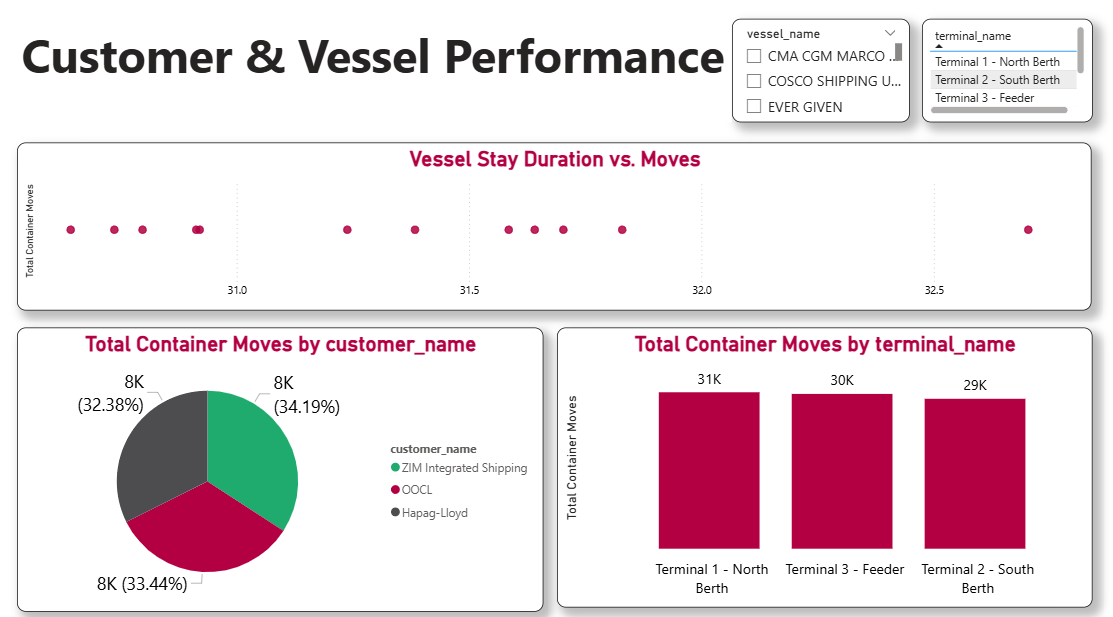

This screenshot's page, from the dashboard's own definition file:
{"tool":"powerbi","page":{"name":"Customer & Vessel Performance","canvas":[1280,720],"ordinal":2},"visuals":[{"type":"scatterChart","title":"Vessel Stay Duration vs. Moves","fields":{"X":["MY Measures.Stay Duration Hours"],"Y":["MY Measures.Total Container Moves"],"Category":["mart Dim_Vessel.vessel_name"]},"box":[23.3,168.3,1228.3,191.7],"z":1000},{"type":"pieChart","fields":{"Category":["mart Dim_Customer.customer_name"],"Y":["MY Measures.Total Container Moves"]},"box":[23.3,380,601.7,325],"z":2000},{"type":"columnChart","fields":{"Category":["mart Dim_Terminal.terminal_name"],"Y":["MY Measures.Total Container Moves"]},"box":[640,380,611.7,320],"z":3000},{"type":"slicer","fields":{"Values":["mart Dim_Vessel.vessel_name"]},"box":[840,26.7,203.3,118.3],"z":4000},{"type":"tableEx","fields":{"Values":["mart Dim_Terminal.terminal_name"]},"box":[1056.7,26.7,195,118.3],"z":5000},{"type":"textbox","title":"Customer & Vessel Performance","box":[23.3,26.7,816.7,118.3],"z":5001}]}

Visuals, with their boxes in screenshot pixels (x1, y1, x2, y2), scaled from the page's 1280x720 canvas onto the 1113x617 screenshot:
"Vessel Stay Duration vs. Moves" scatterChart: (left=20, top=144, right=1088, bottom=308)
pieChart - mart Dim_Customer.customer_name x MY Measures.Total Container Moves: (left=20, top=326, right=543, bottom=604)
columnChart - mart Dim_Terminal.terminal_name x MY Measures.Total Container Moves: (left=556, top=326, right=1088, bottom=600)
slicer - mart Dim_Vessel.vessel_name: (left=730, top=23, right=907, bottom=124)
tableEx - mart Dim_Terminal.terminal_name: (left=919, top=23, right=1088, bottom=124)
"Customer & Vessel Performance" textbox: (left=20, top=23, right=730, bottom=124)
